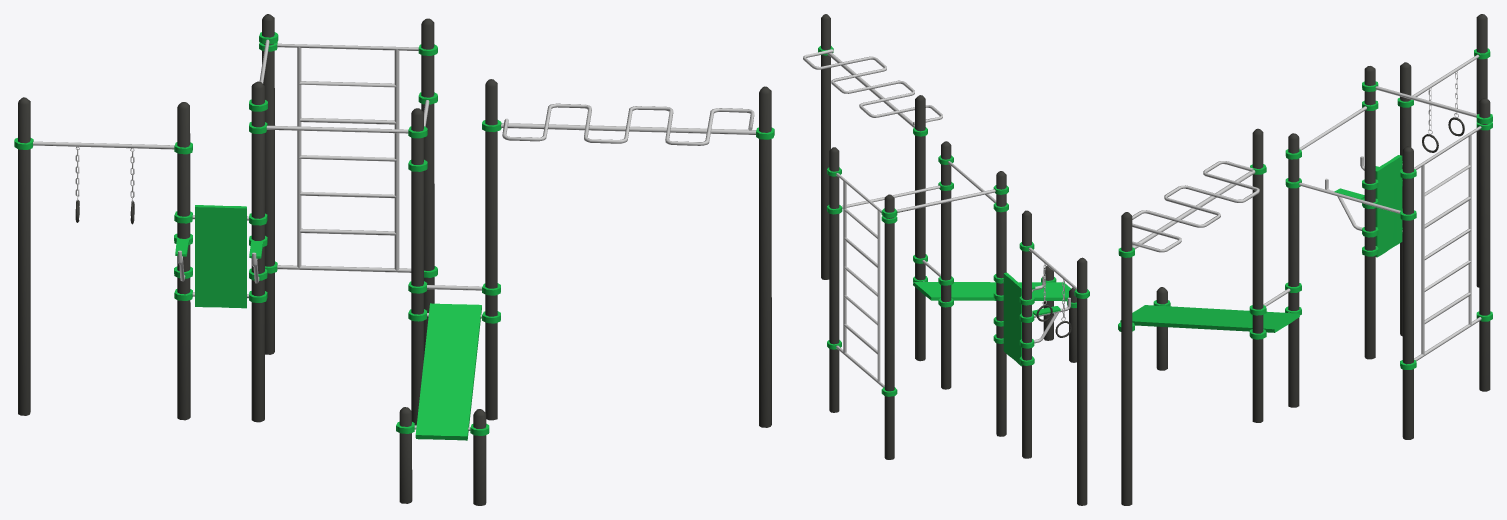
Rendered from турник1.glb.
3 renders of one model, left to right at view 1: azimuth 30°, elevation 25°; view 2: azimuth 150°, elevation 25°; view 3: azimuth 270°, elevation 25°, orthographic. The views are drawn at different scales.
Visible parts, largest first — view 1: SM_Aviomotornaya_ZU_5_Flora.003; view 2: SM_Aviomotornaya_ZU_5_Flora.003; view 3: SM_Aviomotornaya_ZU_5_Flora.003.
Part boxes in pixels (x1,y1,x2,y2): SM_Aviomotornaya_ZU_5_Flora.003: (14,14,774,505); SM_Aviomotornaya_ZU_5_Flora.003: (803,14,1089,505); SM_Aviomotornaya_ZU_5_Flora.003: (1118,14,1492,505).
Size of the model in its own units: 5.21 by 3.12 by 3.56.
1 material, 1 textured.
